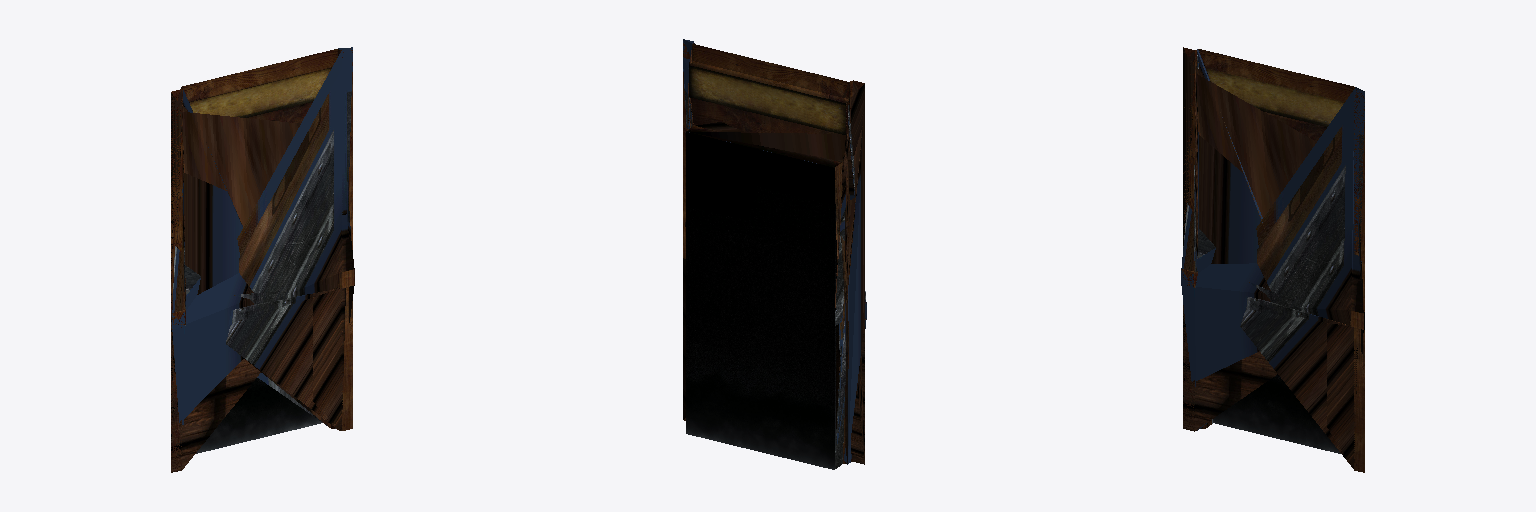
3 views of the same model, side by side, from view 1: azimuth 30°, elevation 25°; view 2: azimuth 150°, elevation 25°; view 3: azimuth 330°, elevation 25° (orthographic).
Visible parts, largest first — view 1: door_003, Wall001_M_D002; view 2: Wall001_M_D002, door_003; view 3: door_003, Wall001_M_D002.
Part boxes in pixels (left/top/right/bottom): door_003: left=171, top=47, right=354, bottom=472; Wall001_M_D002: left=171, top=48, right=354, bottom=471; Wall001_M_D002: left=683, top=43, right=865, bottom=469; door_003: left=683, top=39, right=866, bottom=468; door_003: left=1181, top=48, right=1364, bottom=468; Wall001_M_D002: left=1182, top=47, right=1364, bottom=472.
Size of the model in its own units: 128 by 256 by 18.16.
Materials: 2 (2 with a texture image).